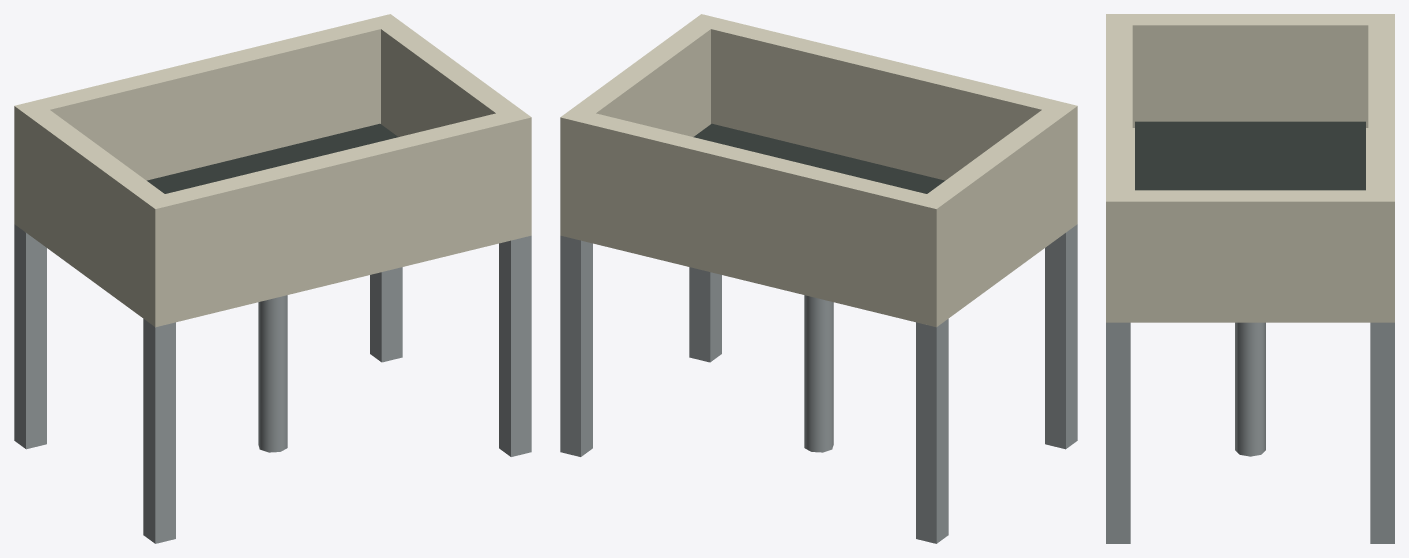
The model's file is roadside-survival-stops-parts-washing-tub-1bca1f6b__23567.glb.
3 renders of one model, left to right at view 1: azimuth 30°, elevation 25°; view 2: azimuth 150°, elevation 25°; view 3: azimuth 270°, elevation 25°, orthographic. The views are drawn at different scales.
Parts seen in each view (by area): view 1: parts-washing-tub; view 2: parts-washing-tub; view 3: parts-washing-tub.
Part boxes in pixels (x1,y1,x2,y2): parts-washing-tub: (14, 14, 531, 543); parts-washing-tub: (560, 14, 1077, 543); parts-washing-tub: (1106, 14, 1394, 543).
Bounding box in the file's own units: 1 × 0.85 × 0.65.
